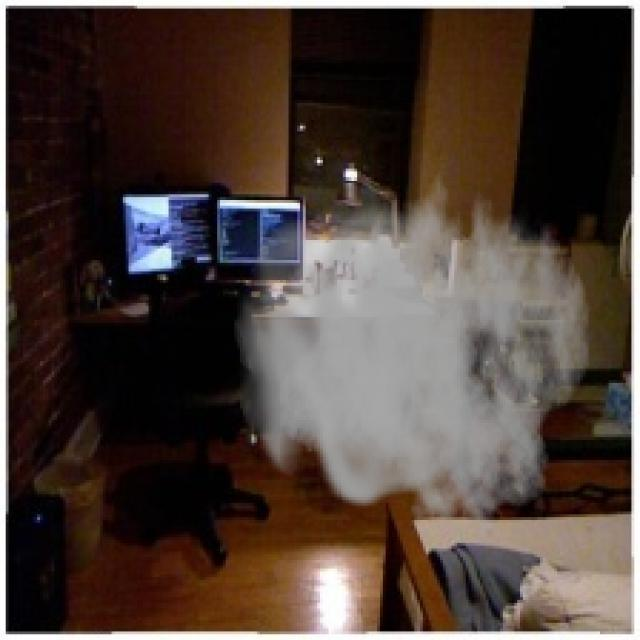Smoke: (234, 155, 592, 540)
